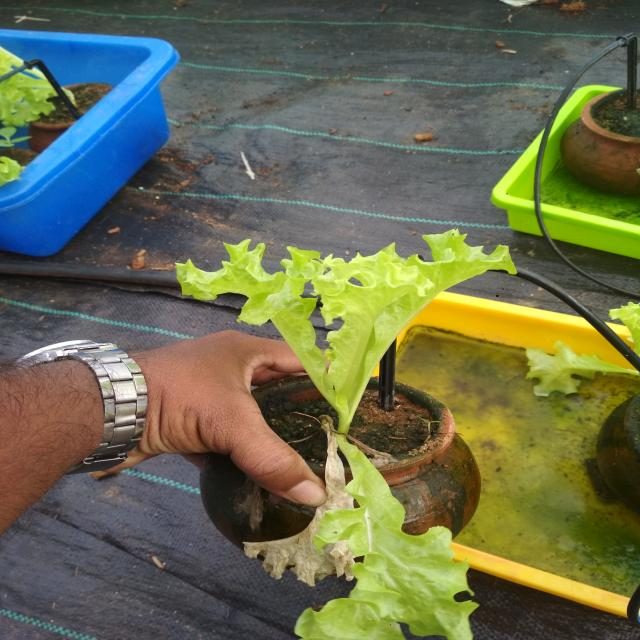Lettuce-Not-Ready-to-Harvest: (199, 236, 509, 638)
